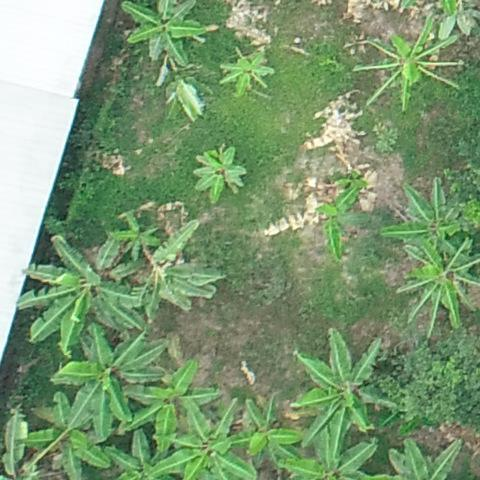Banana-plant: (12, 221, 149, 361), (282, 325, 402, 450), (54, 324, 170, 443), (345, 21, 467, 118), (116, 207, 224, 316), (392, 232, 480, 339), (146, 396, 258, 480), (117, 361, 222, 443), (382, 173, 470, 261), (15, 402, 111, 480), (229, 387, 306, 469), (307, 164, 369, 263), (121, 0, 207, 69), (277, 423, 381, 480), (98, 422, 187, 480), (99, 204, 168, 268), (186, 142, 248, 204), (216, 46, 273, 98)
